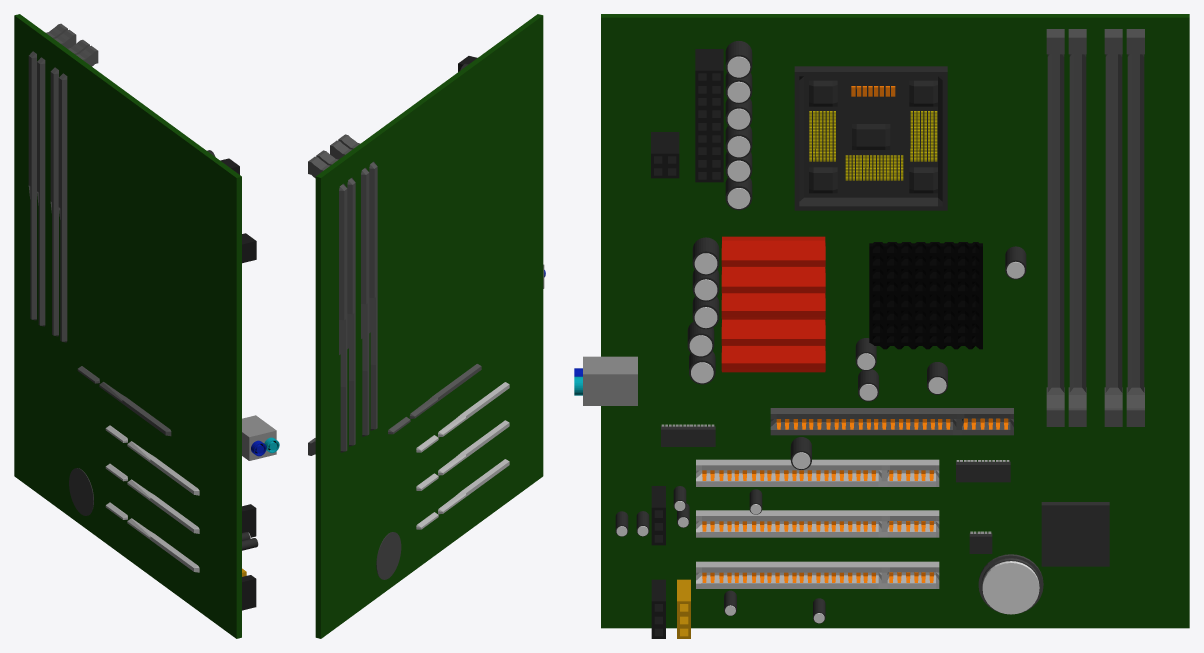
Rendered from MBD.gltf.
3 renders of one model, left to right at view 1: azimuth 30°, elevation 25°; view 2: azimuth 150°, elevation 25°; view 3: azimuth 270°, elevation 25°, orthographic. The views are drawn at different scales.
Visible parts, largest first — view 1: Cube, Cube.259, Cube.423, Cube.417, Cube.418, Cube.819, Cylinder.001, Cube.481, Cube.545, Cube.511, Cube.424; view 2: Cube, Cube.259, Cube.418, Cube.417, Cube.423, Cylinder.001, Cube.545, Cube.481, Cube.424, Cube.511; view 3: Cube, Cube.002, Cube.514, Cube.001, Cube.259, Cube.417, Cube.418, Cube.423, Cube.481, Cube.511, Cube.545, Cube.424 (+5 smaller).
Part boxes in pixels (<box>): Cube: <box>14,14,241,638</box>; Cube.259: <box>58,73,67,342</box>; Cube.423: <box>37,57,45,326</box>; Cube.417: <box>50,67,58,336</box>; Cube.418: <box>28,51,36,320</box>; Cube.819: <box>242,415,276,460</box>; Cylinder.001: <box>69,468,93,515</box>; Cube.481: <box>105,463,199,533</box>; Cube.545: <box>77,366,171,436</box>; Cube.511: <box>105,502,199,572</box>; Cube.424: <box>105,425,199,495</box>; Cube: <box>315,14,543,638</box>; Cube.259: <box>369,161,377,430</box>; Cube.418: <box>339,183,347,452</box>; Cube.417: <box>361,167,369,436</box>; Cube.423: <box>347,177,355,446</box>; Cylinder.001: <box>376,532,401,579</box>; Cube.545: <box>388,364,481,434</box>; Cube.481: <box>416,420,509,490</box>; Cube.424: <box>416,382,509,452</box>; Cube.511: <box>416,459,509,529</box>; Cube: <box>601,14,1189,628</box>; Cube.002: <box>794,66,947,210</box>; Cube.514: <box>721,236,825,372</box>; Cube.001: <box>869,242,982,349</box>; Cube.259: <box>1047,54,1064,392</box>; Cube.417: <box>1069,54,1086,392</box>; Cube.418: <box>1127,54,1144,392</box>; Cube.423: <box>1105,54,1122,392</box>; Cube.481: <box>696,510,939,537</box>; Cube.511: <box>696,561,939,588</box>; Cube.545: <box>770,408,1013,435</box>; Cube.424: <box>696,459,939,486</box>.
Size of the model in its own units: 0.4536 by 4.61 by 4.21.
